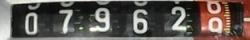digits: (88, 7, 110, 31), (202, 16, 224, 38), (58, 8, 73, 34), (132, 9, 148, 33), (171, 6, 186, 30), (24, 12, 37, 34)
